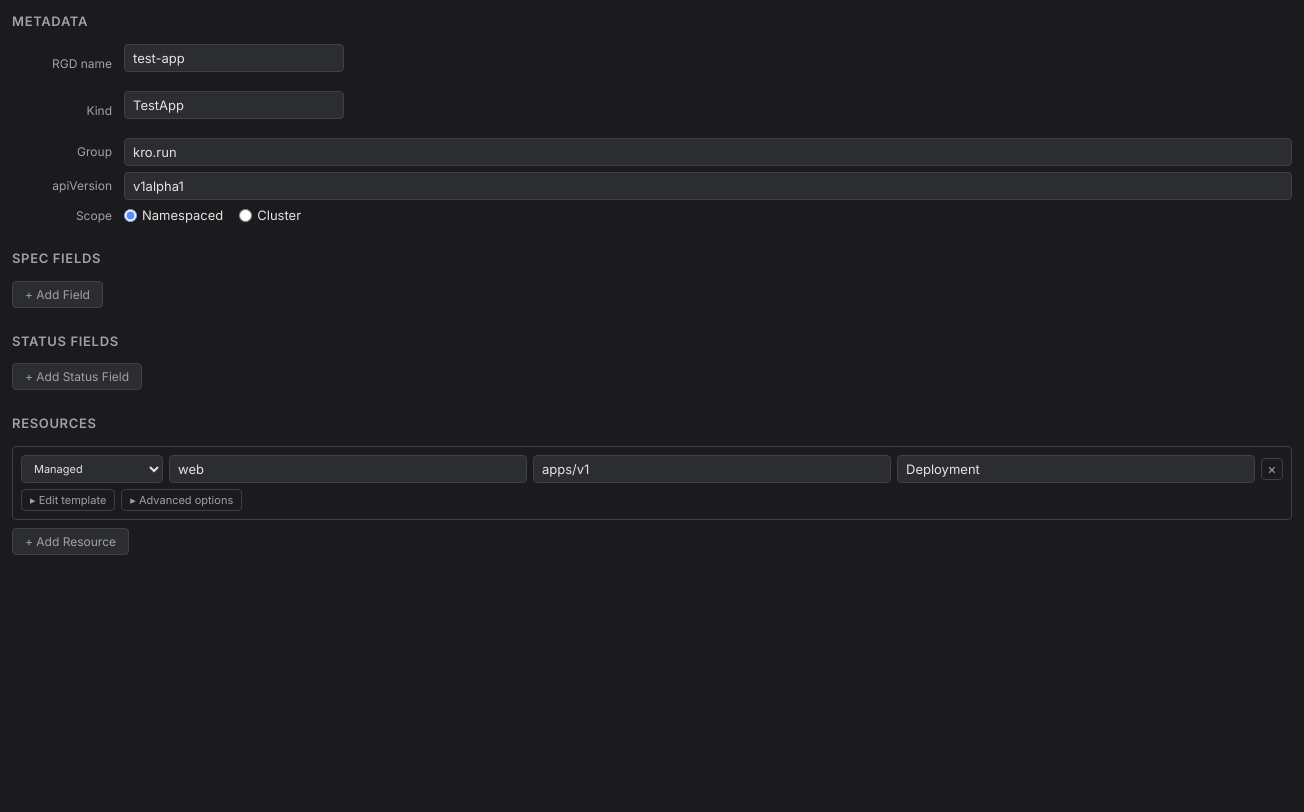
Template editor (US1) › shows template textarea after clicking expand
Click the button with test id "template-expand-res-0".
click(68, 500)  # box x1=21 y1=489 x2=115 y2=511
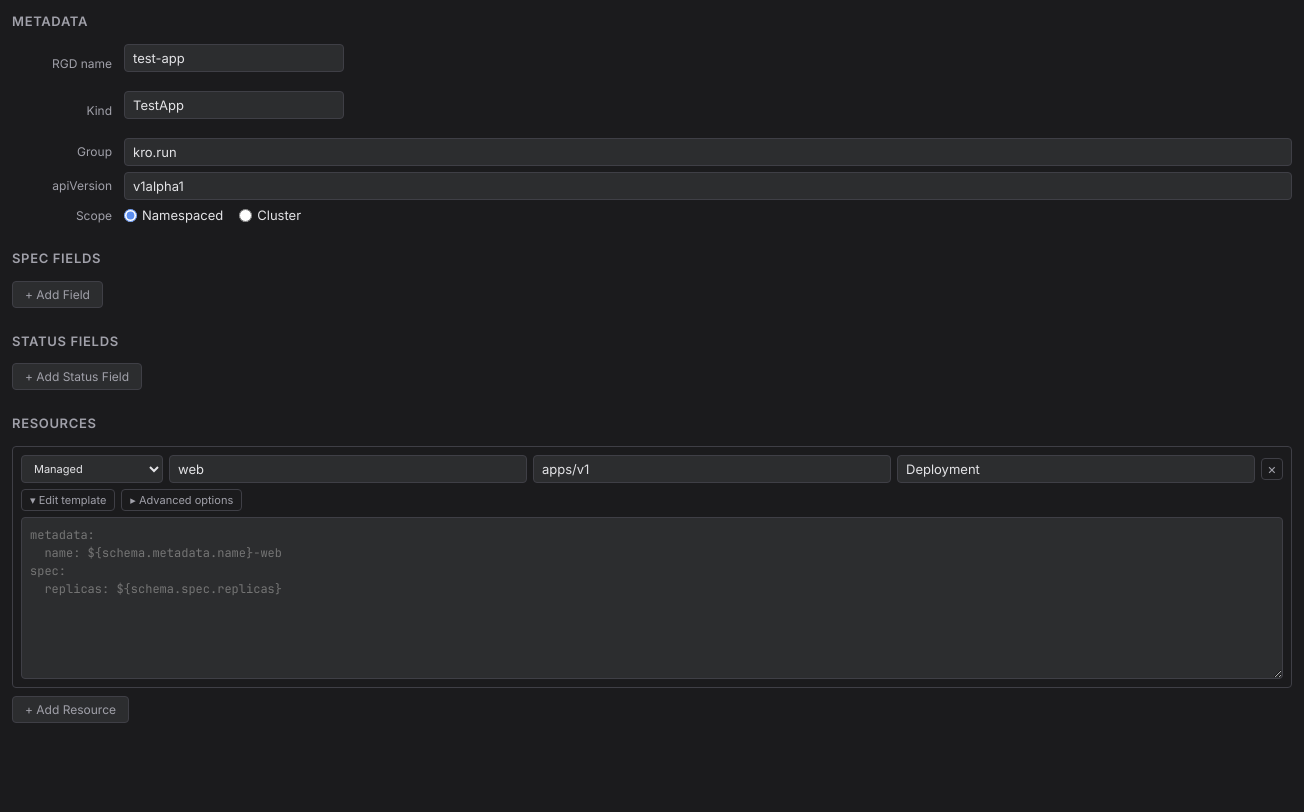
Expected: the text box with test id "template-body-res-0" is shown, x1=21 y1=517 x2=1283 y2=679
